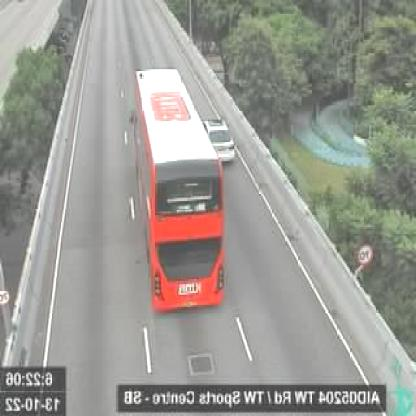Bus: (134, 66, 226, 316)
Car: (200, 118, 236, 163)
